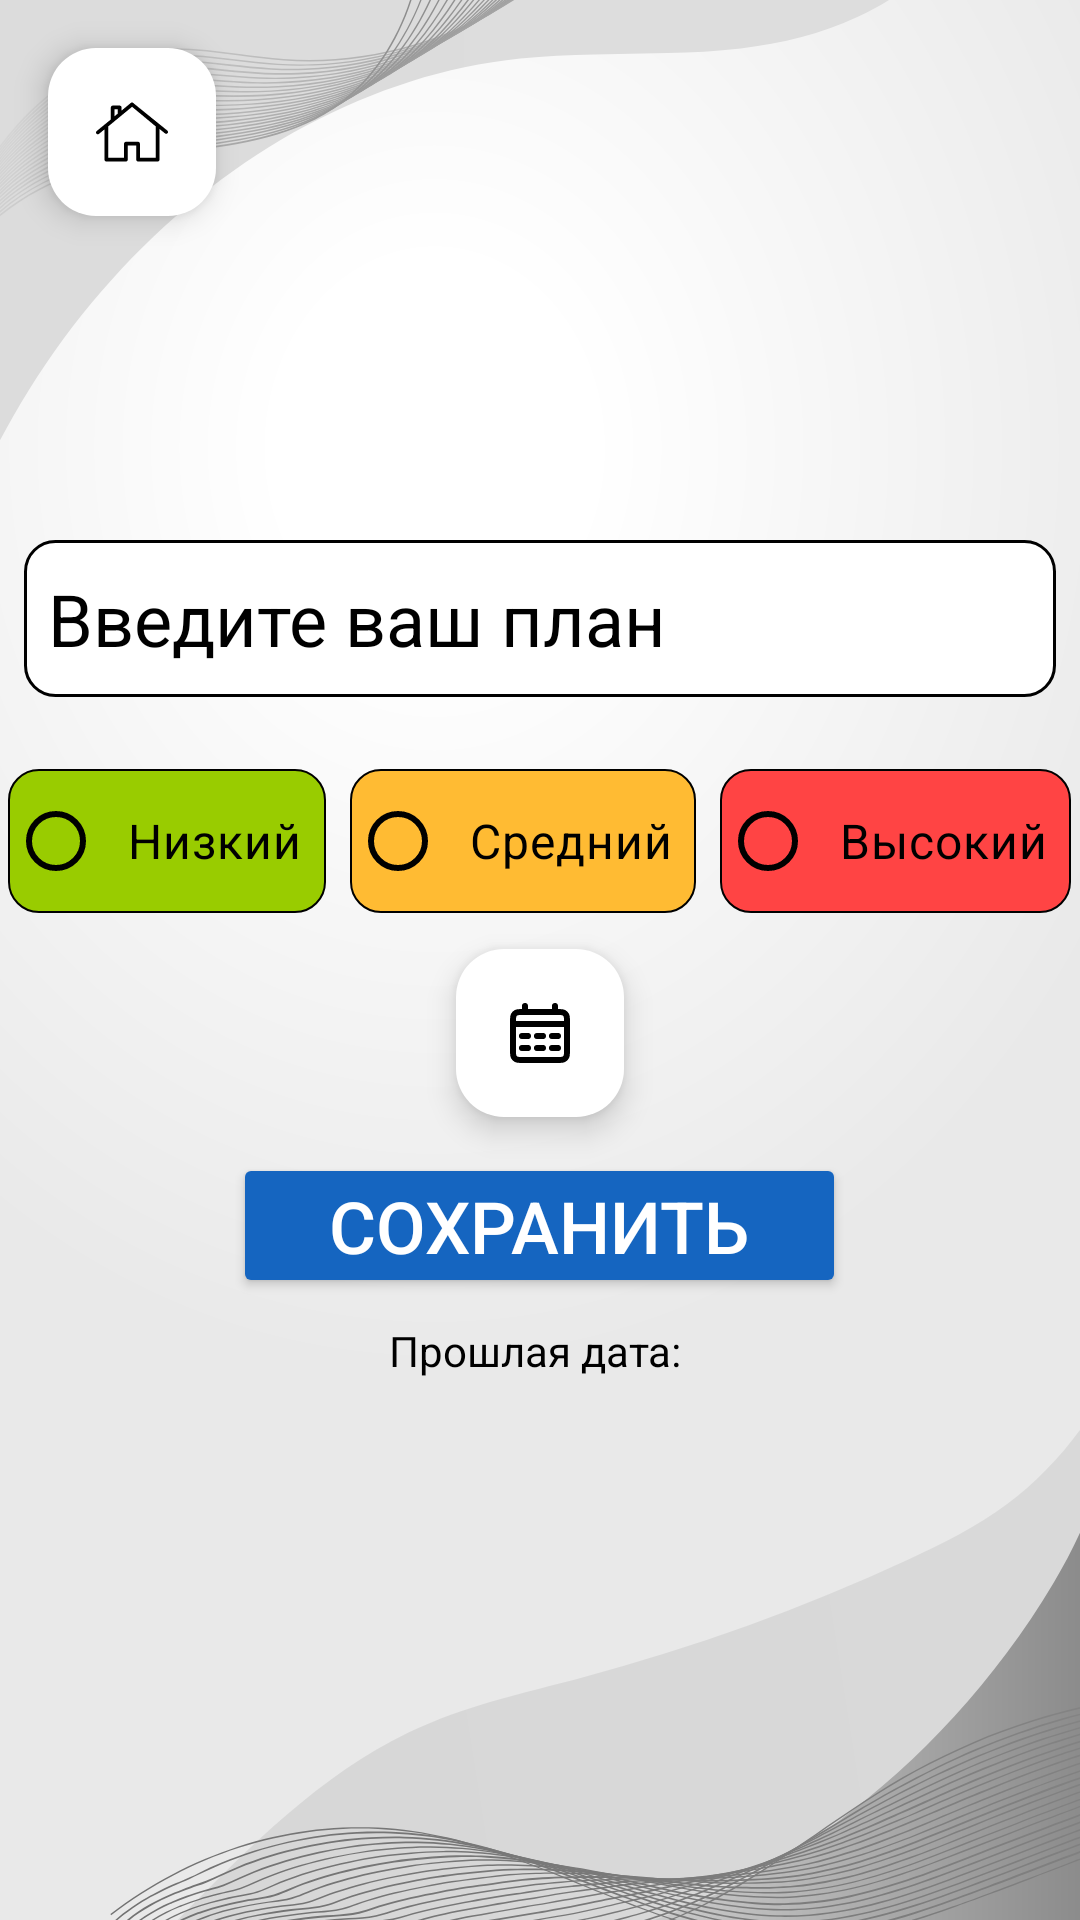

Icon click points for this 1080w x 1920h phone screenshot, format [x,y]:
Главный экран: [132,132]
Календарь: [540,1033]
